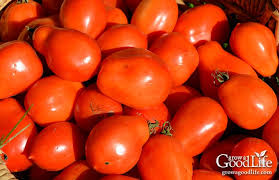tomato: (102, 47, 172, 105), (210, 71, 279, 126), (143, 123, 190, 180), (25, 74, 82, 118), (42, 23, 90, 73), (93, 117, 136, 171)
